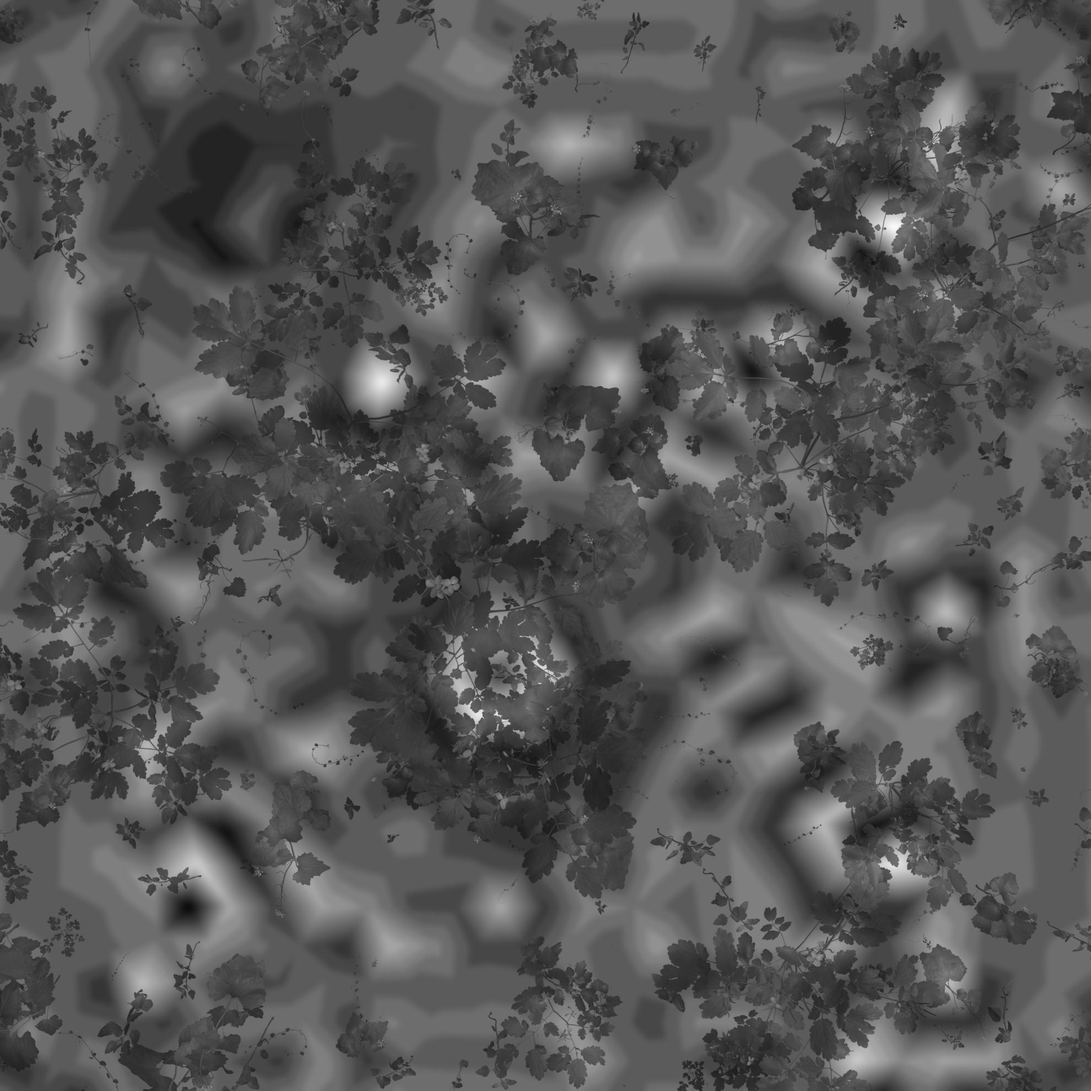landmine: (144, 104, 320, 281), (415, 576, 588, 755)
